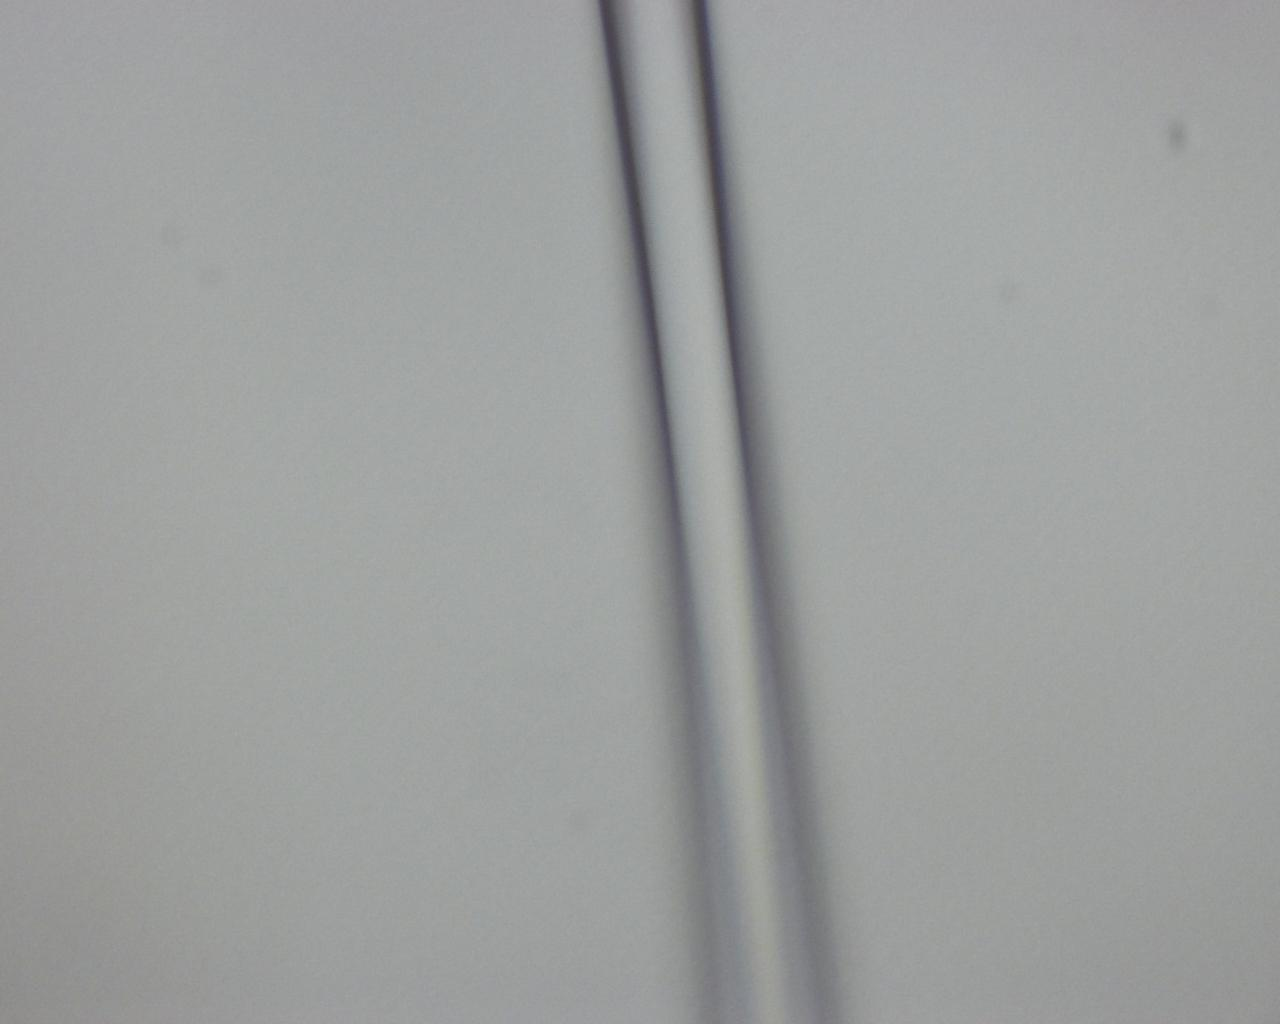fiber: (127, 973, 1151, 1024)
